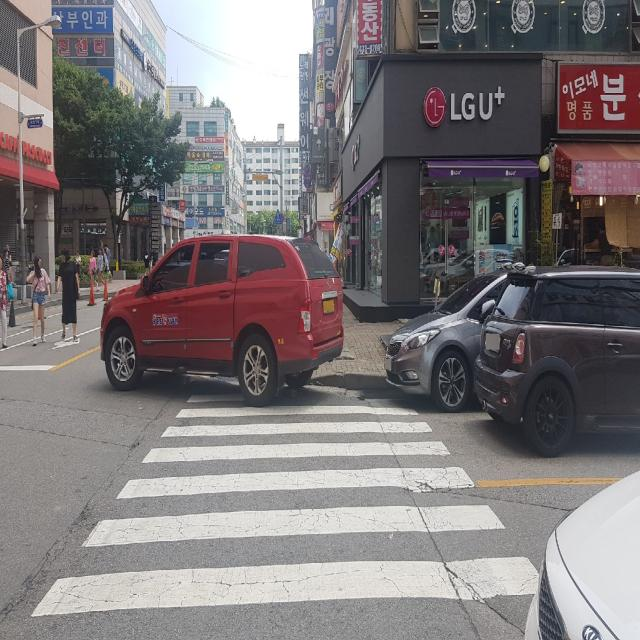횡단보도: (29, 390, 542, 620)
